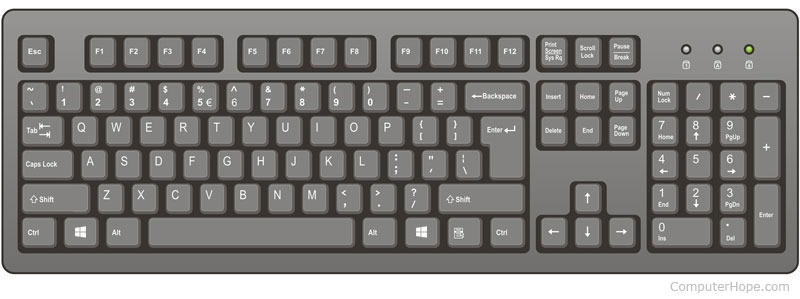keyboard: (0, 5, 800, 276)
